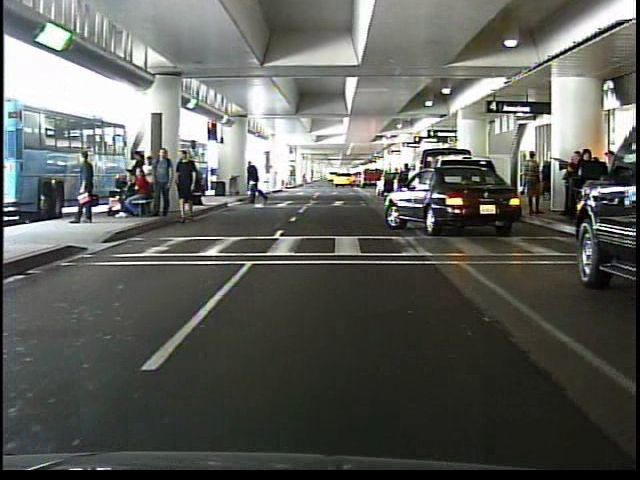person: (71, 145, 102, 233), (523, 149, 543, 215), (248, 160, 272, 206)
